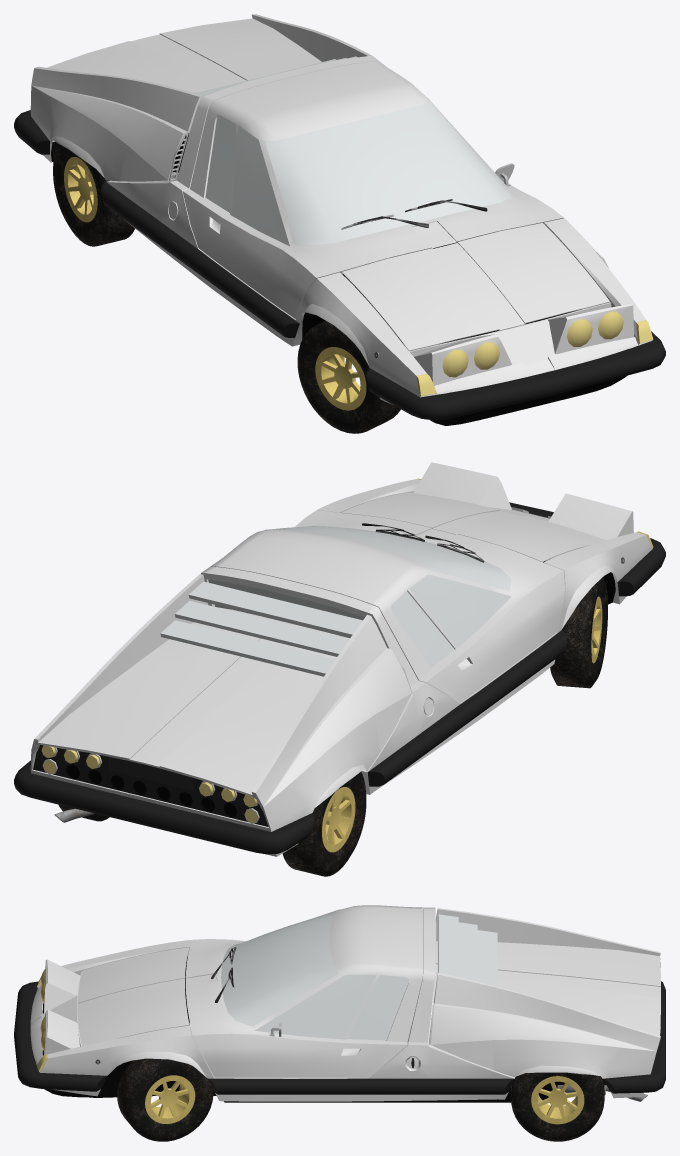
File: Skoda 110 Super Sport (LP).fbx
3 views of the same model, one above another, from view 1: azimuth 30°, elevation 25°; view 2: azimuth 150°, elevation 25°; view 3: azimuth 270°, elevation 25° (orthographic). The views are drawn at different scales.
Parts seen in each view (by area): view 1: Body, Roof Lid, Hood Lid, Windows, Trunk, Headlights, Wheel FR, Wheel BR; view 2: Hood Lid, Roof Lid, Body, Hood glass, Windows, Trunk, Headlights, Wheel BR, Wheel FR, Back Window; view 3: Hood Lid, Body, Roof Lid, Windows, Trunk, Wheel FL, Wheel BL, Hood glass, Headlights.
Part boxes in pixels (x1,y1,x2,y2): Body: (51,55,665,425); Roof Lid: (182,61,563,318); Hood Lid: (14,14,371,181); Windows: (205,102,511,246); Trunk: (341,223,609,351); Headlights: (414,304,633,385); Wheel FR: (297,320,400,433); Wheel BR: (53,143,134,246); Hood Lid: (14,574,411,856); Roof Lid: (211,510,564,702); Body: (54,478,665,822); Hood glass: (160,581,362,676); Windows: (269,526,511,668); Trunk: (342,492,605,562); Headlights: (413,462,633,540); Wheel BR: (282,772,366,876); Wheel FR: (550,577,607,688); Back Window: (208,579,364,638); Hood Lid: (429,908,665,1098); Body: (14,907,647,1102); Roof Lid: (185,905,422,1077); Windows: (221,910,408,1040); Trunk: (78,947,189,1046); Wheel FL: (117,1058,213,1141); Wheel BL: (511,1072,604,1141); Hood glass: (438,914,497,986); Headlights: (40,959,79,1054).
Size of the model in its own units: 166 by 111 by 409.
